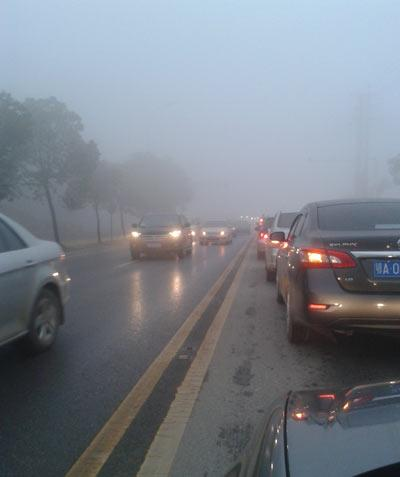car: (269, 197, 400, 343), (238, 381, 400, 476), (1, 210, 73, 352), (255, 210, 349, 283), (129, 212, 193, 260), (255, 216, 313, 262), (198, 220, 232, 246)
